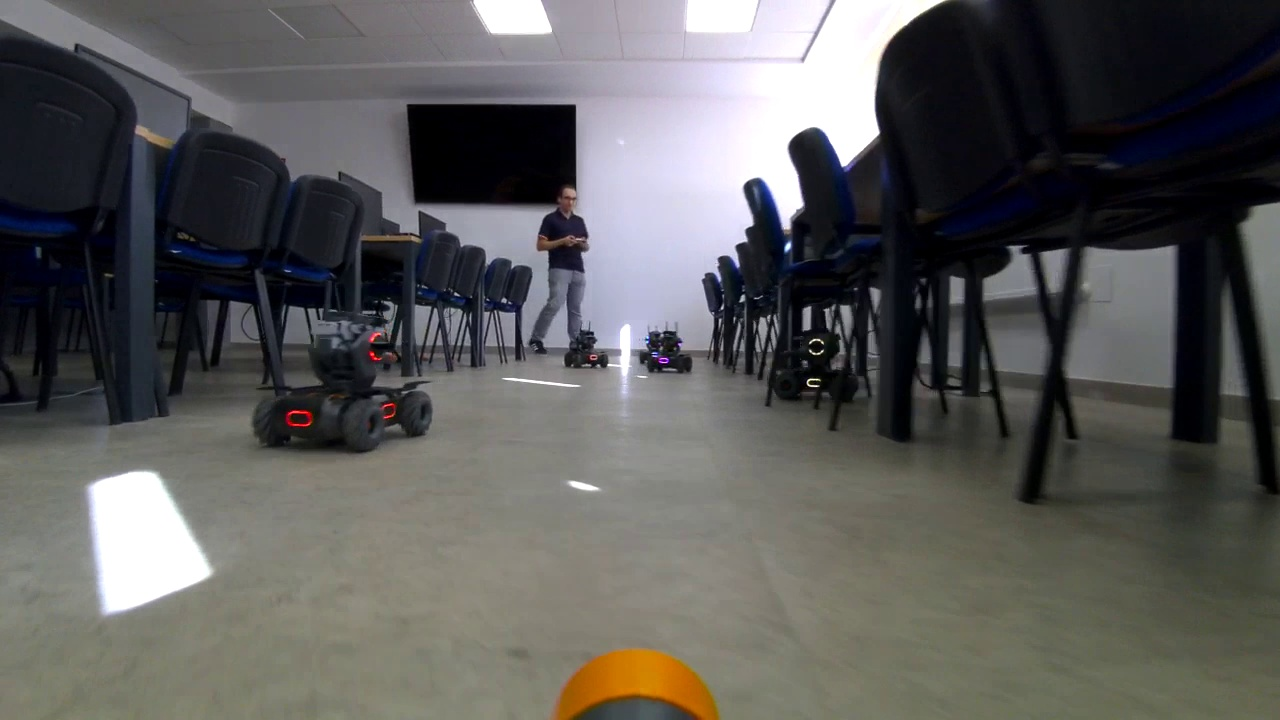robot: (253, 305, 442, 450), (643, 334, 697, 376), (561, 322, 609, 368)
